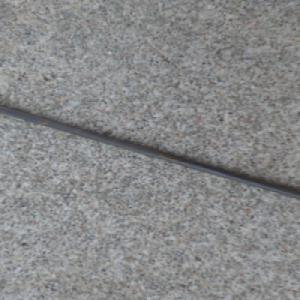LuggagePart: (0, 103, 300, 199)
